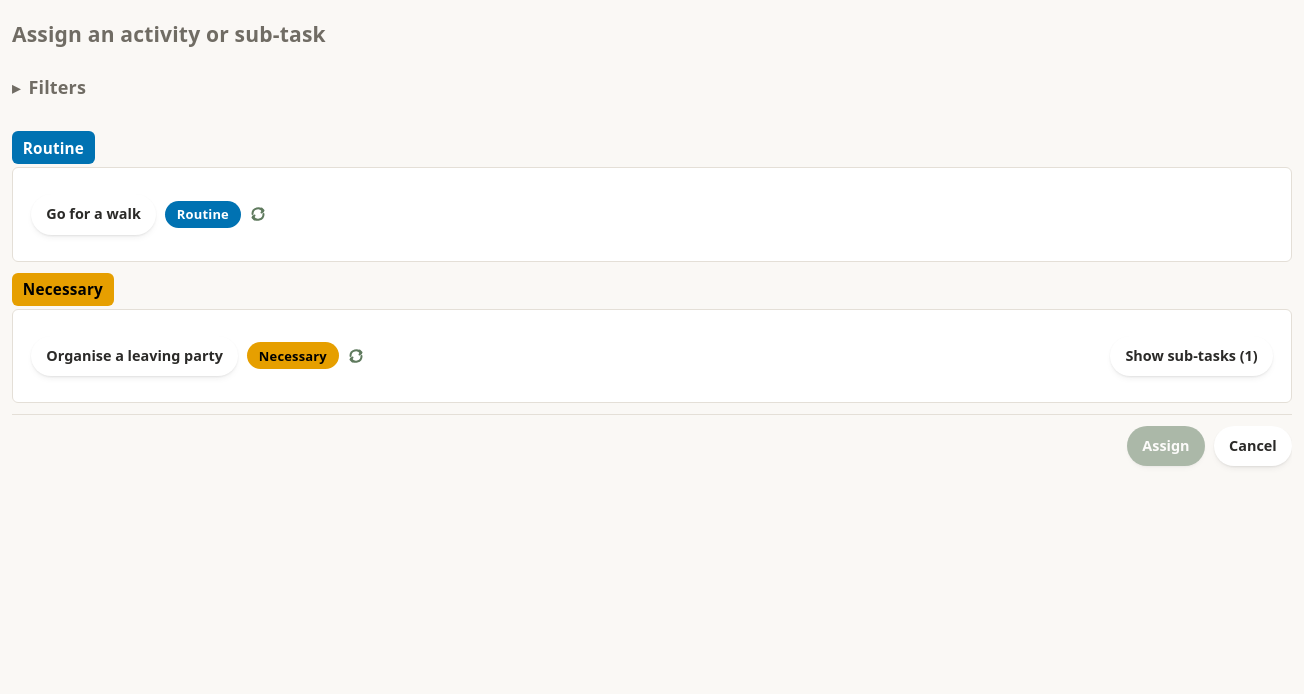
Test case: AssignActivityPicker › FRONTEND-009-AC-25/AC-26: filtering by category › hides an activity whose own category and sub-tasks all fail to match
Expected: the button "Go for a walk" is shown, x1=31 y1=194 x2=156 y2=235
Click the heading "Filters" at [57, 87], box x1=28 y1=75 x2=86 y2=99
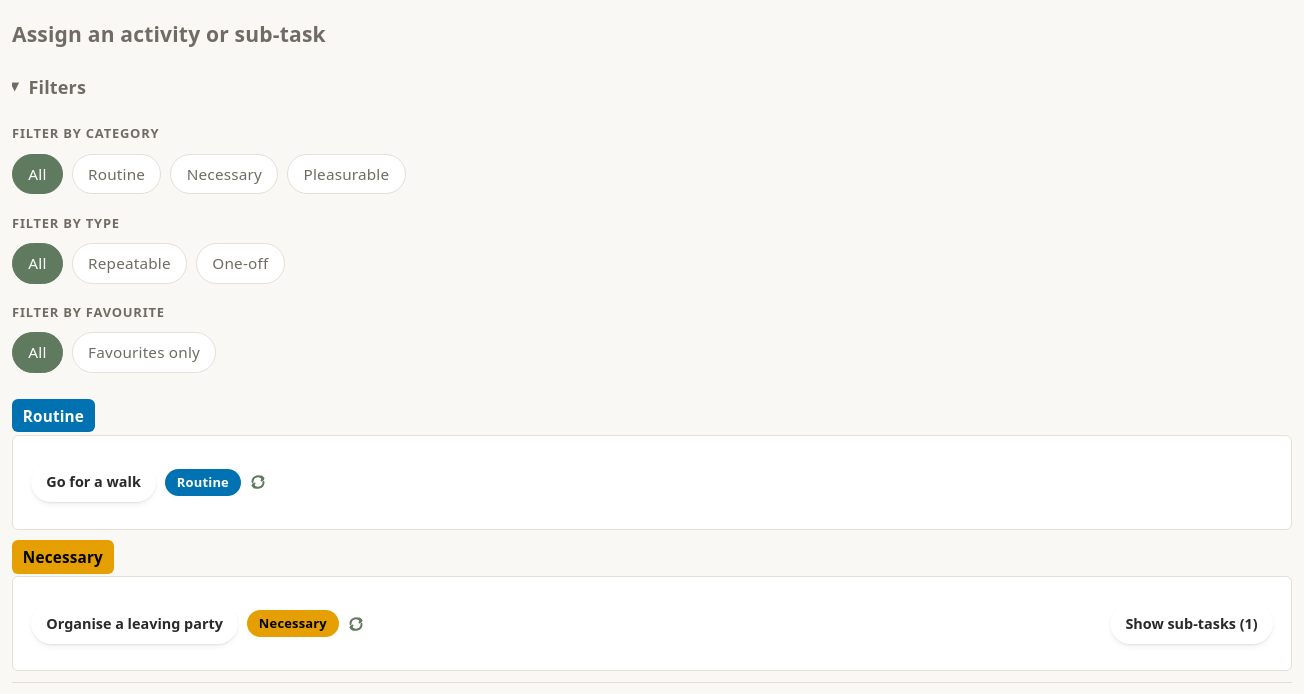
Click the radio button labelled "Necessary" at [224, 174], box x1=170 y1=154 x2=278 y2=194
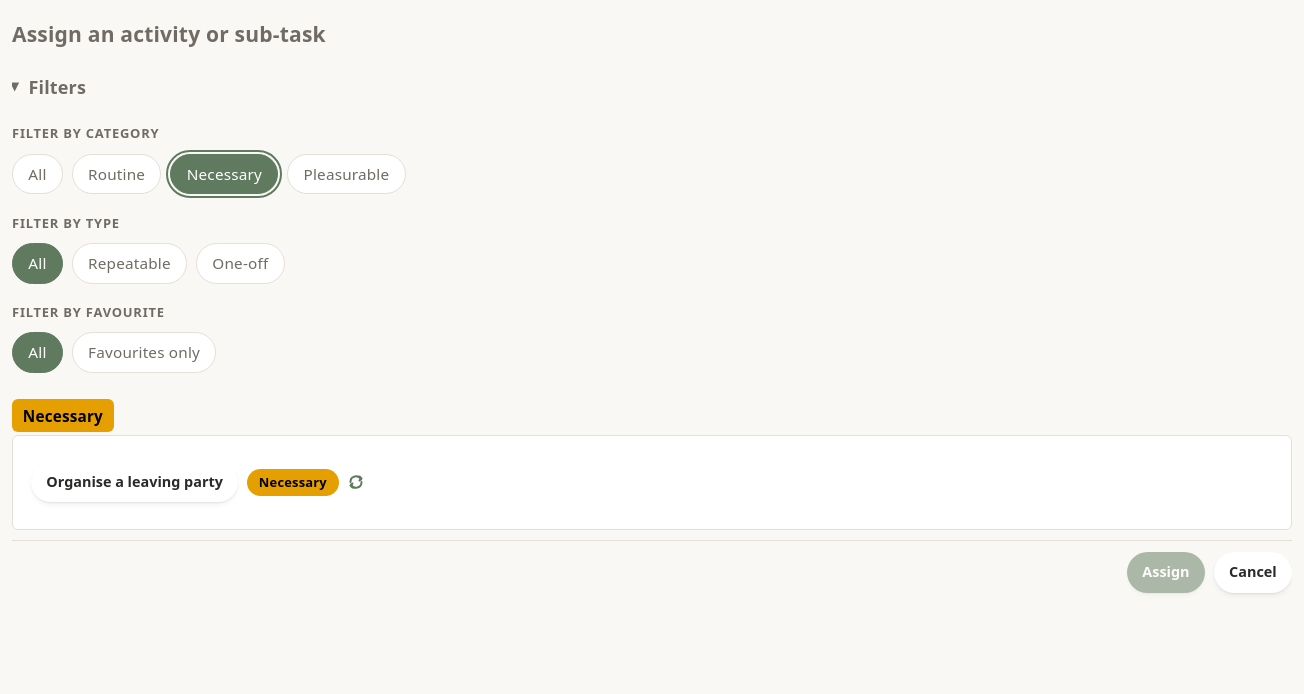
Expected: the button "Organise a leaving party" is shown, x1=31 y1=462 x2=238 y2=502
Result: the button "Go for a walk" is gone
